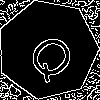Q: (22, 24, 86, 86)
